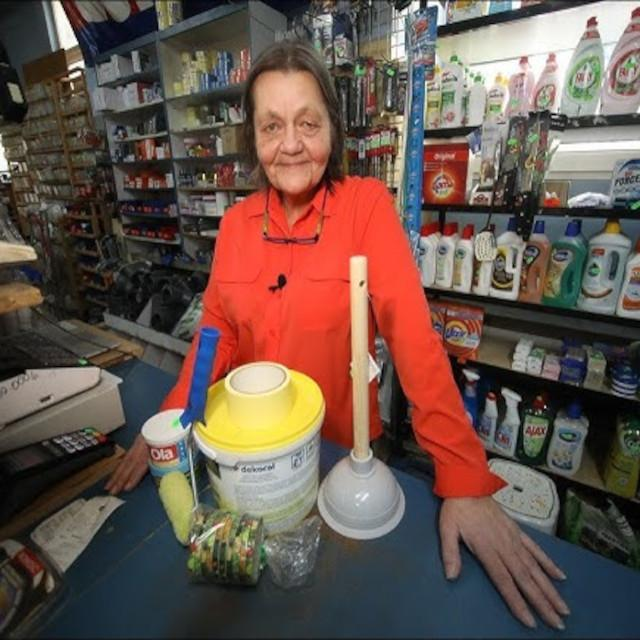kobieta: (173, 26, 559, 621)
